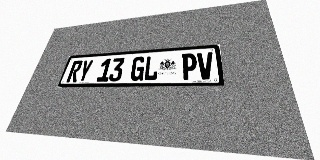1: (96, 58, 113, 82)
3: (108, 58, 125, 81)
G: (129, 56, 146, 81)
L: (143, 55, 159, 81)
P: (181, 53, 197, 80)
R: (66, 60, 83, 82)
V: (197, 52, 214, 80)
Y: (76, 60, 94, 82)
